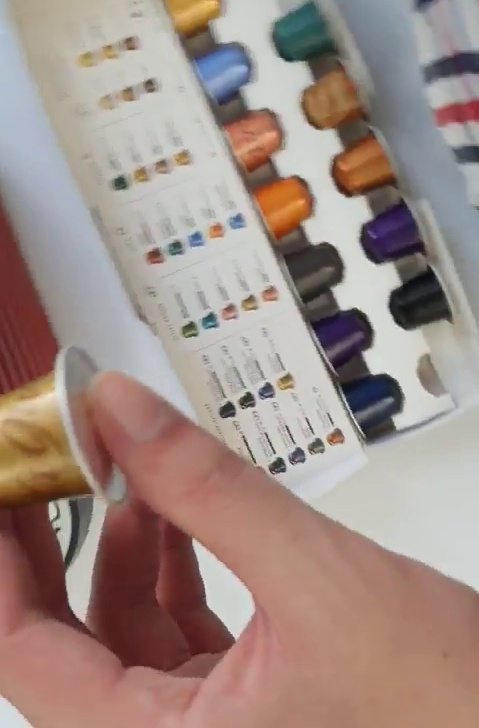capsule_9: (1, 346, 136, 508)
